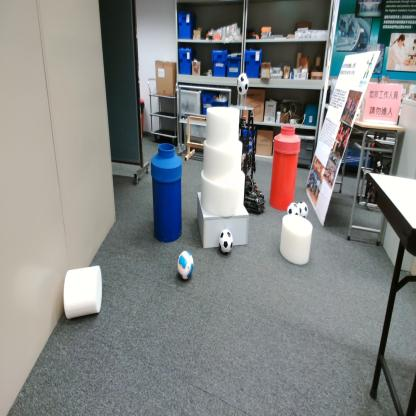ball: (175, 248, 195, 283), (219, 227, 233, 256), (235, 73, 250, 96), (287, 201, 300, 221), (298, 199, 308, 220)
